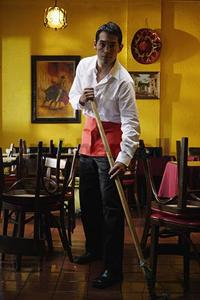person: (67, 23, 142, 290)
